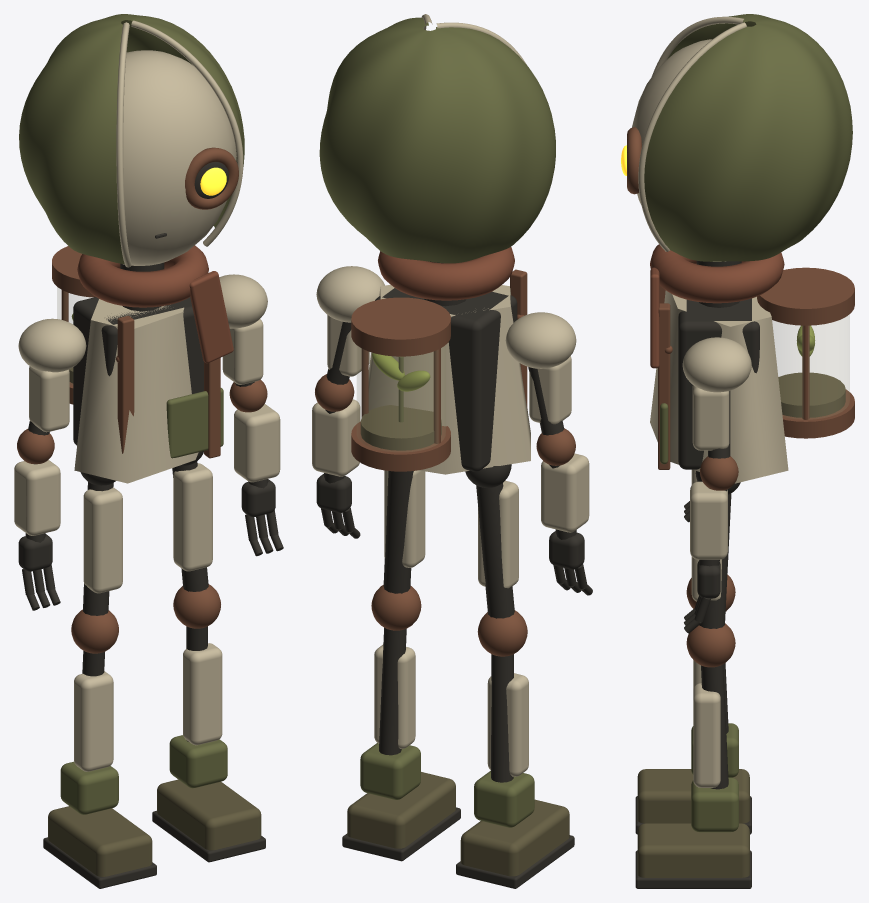
Rendered from keeper-concept-v2.glb.
3 views of the same model, side by side, from view 1: azimuth 30°, elevation 25°; view 2: azimuth 150°, elevation 25°; view 3: azimuth 270°, elevation 25° (orthographic). The views are drawn at different scales.
Parts seen in each view (by area): view 1: Head, Torso, LeftLeg, RightLeg, LeftArm, KeeperConcept02, RightArm, SeedCanister; view 2: Head, LeftLeg, RightLeg, Torso, SeedCanister, LeftArm, RightArm, KeeperConcept02; view 3: Head, RightLeg, Torso, SeedCanister, RightArm, KeeperConcept02, LeftLeg.
Boxes of the visible parts, x1,y1,x2,y2 form: Head: (19, 14, 244, 267); Torso: (73, 297, 223, 483); LeftLeg: (43, 472, 156, 888); RightLeg: (152, 451, 265, 862); LeftArm: (14, 318, 86, 610); KeeperConcept02: (77, 245, 233, 458); RightArm: (219, 274, 283, 556); SeedCanister: (52, 246, 95, 404); Head: (319, 14, 555, 263); LeftLeg: (456, 464, 574, 888); RightLeg: (342, 470, 460, 861); Torso: (368, 284, 530, 474); SeedCanister: (351, 297, 450, 471); LeftArm: (505, 312, 592, 595); RightArm: (312, 266, 384, 538); KeeperConcept02: (378, 247, 527, 409); Head: (621, 14, 852, 261); RightLeg: (635, 471, 751, 888); Torso: (650, 290, 788, 483); SeedCanister: (757, 267, 854, 438); RightArm: (682, 337, 751, 633); KeeperConcept02: (650, 244, 784, 469); LeftLeg: (635, 469, 751, 834).
Size of the model in its own units: 0.3955 by 1.21 by 0.3095.
